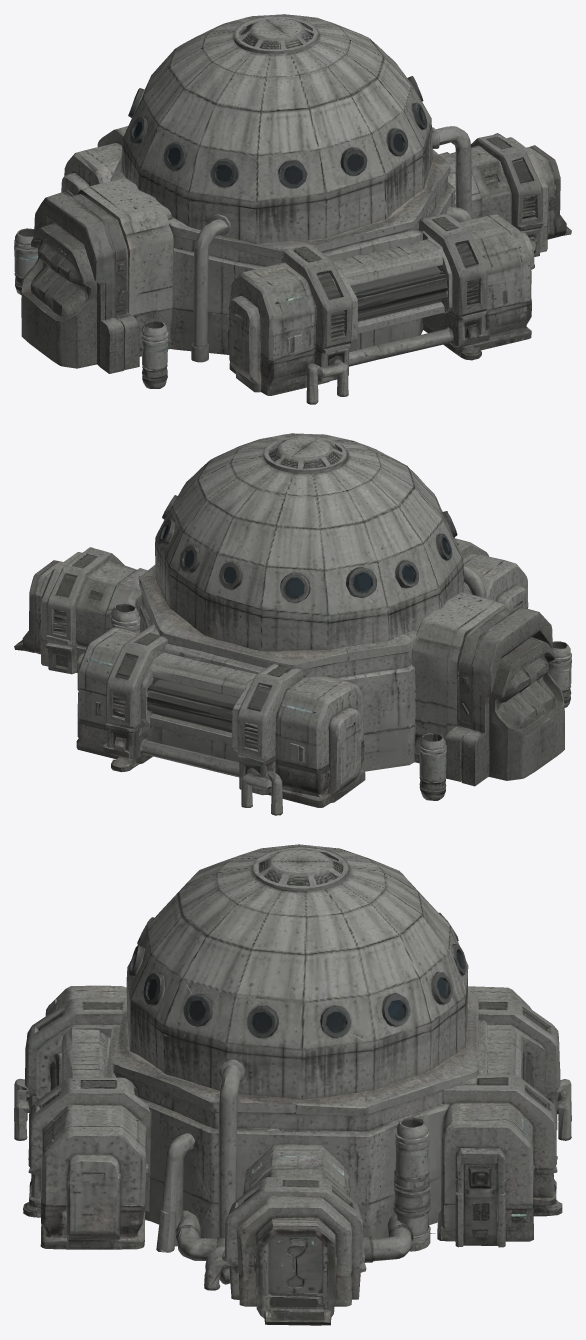
File: struct.landmark.glb
3 views of the same model, one above another, from view 1: azimuth 30°, elevation 25°; view 2: azimuth 150°, elevation 25°; view 3: azimuth 270°, elevation 25° (orthographic). The views are drawn at different scales.
Parts seen in each view (by area): view 1: body; view 2: body; view 3: body.
Boxes of the visible parts, x1,y1,x2,y2 form: body: (14, 14, 571, 404); body: (14, 433, 571, 815); body: (14, 844, 571, 1325).
Size of the model in its own units: 4.4 by 2.14 by 3.51.
Materials: 1 (1 with a texture image).
